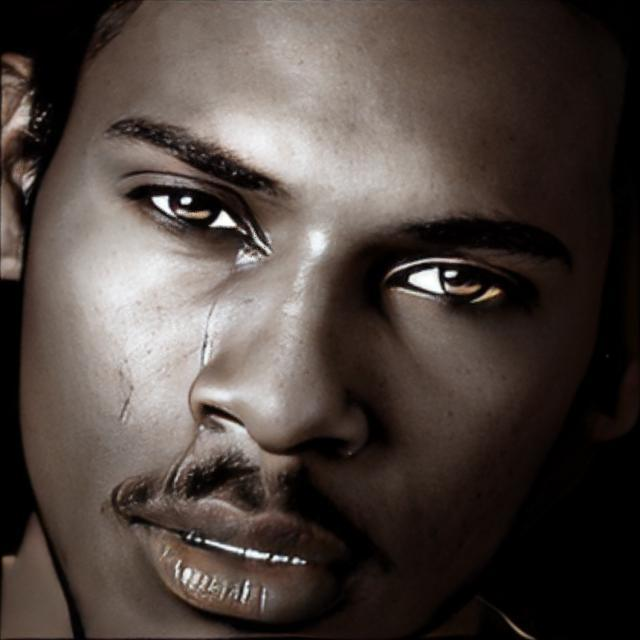sad: (20, 1, 605, 640)
